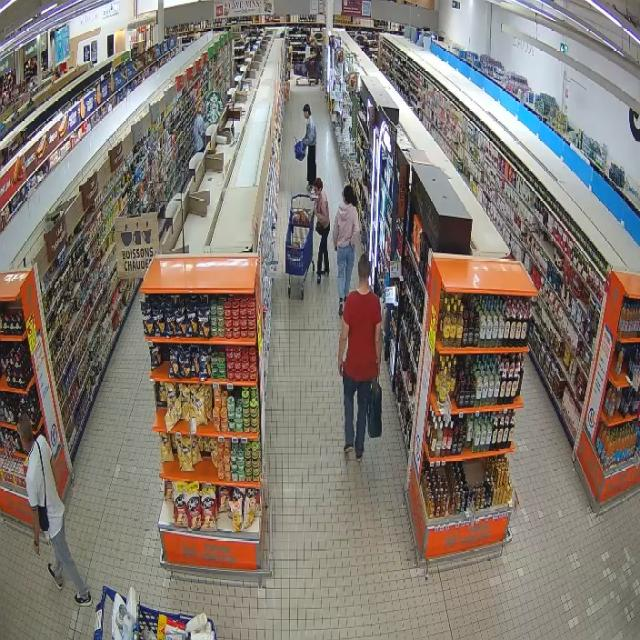bags: (36, 441, 49, 532), (316, 221, 323, 234)
hands: (338, 356, 344, 376), (34, 538, 39, 555), (377, 361, 380, 378), (302, 142, 307, 148), (335, 244, 338, 251)
person: (19, 414, 91, 606), (338, 255, 381, 460), (333, 185, 359, 315), (313, 178, 329, 283), (302, 104, 316, 191), (194, 104, 207, 152)
